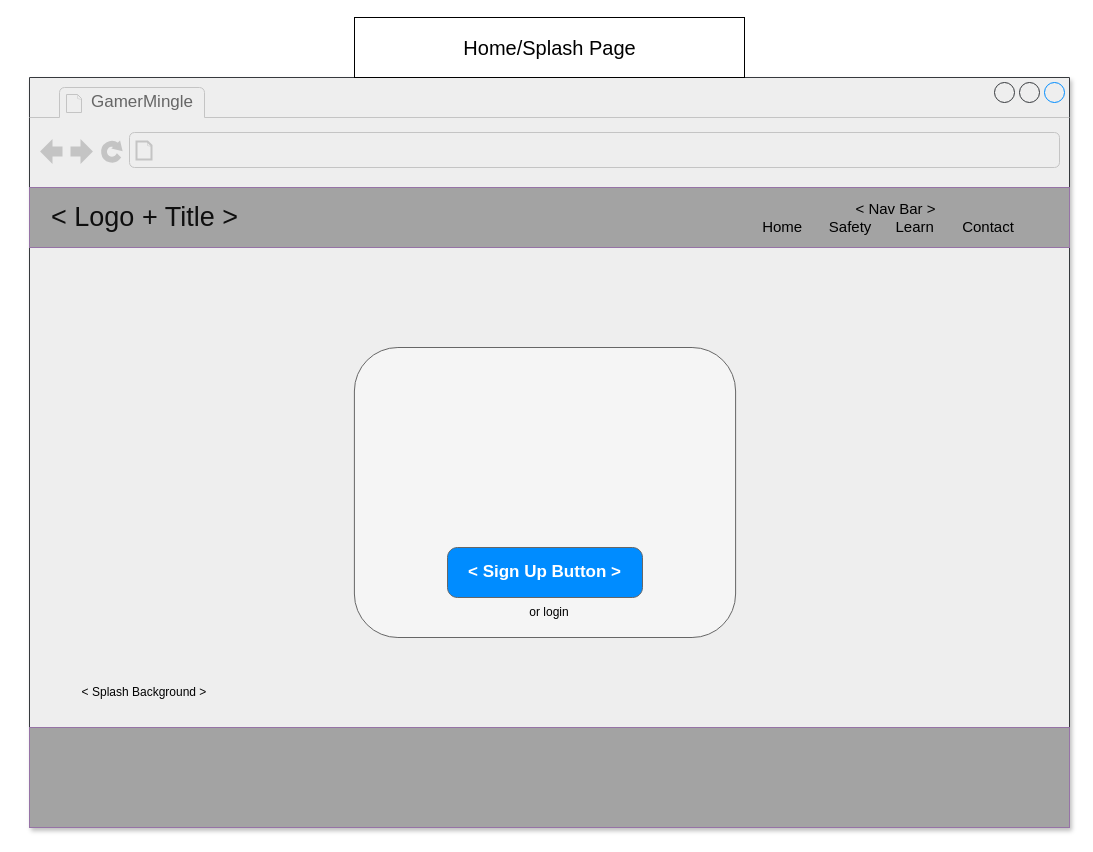
The diagram is 1093 pixels wide and 852 high, and some of its shapes have lost their labels. The centre of each missing label's shape, as x and y in pixels:
"footer" goes at point 549,777.
"https://www.gamermingle.io" goes at point 284,150.
